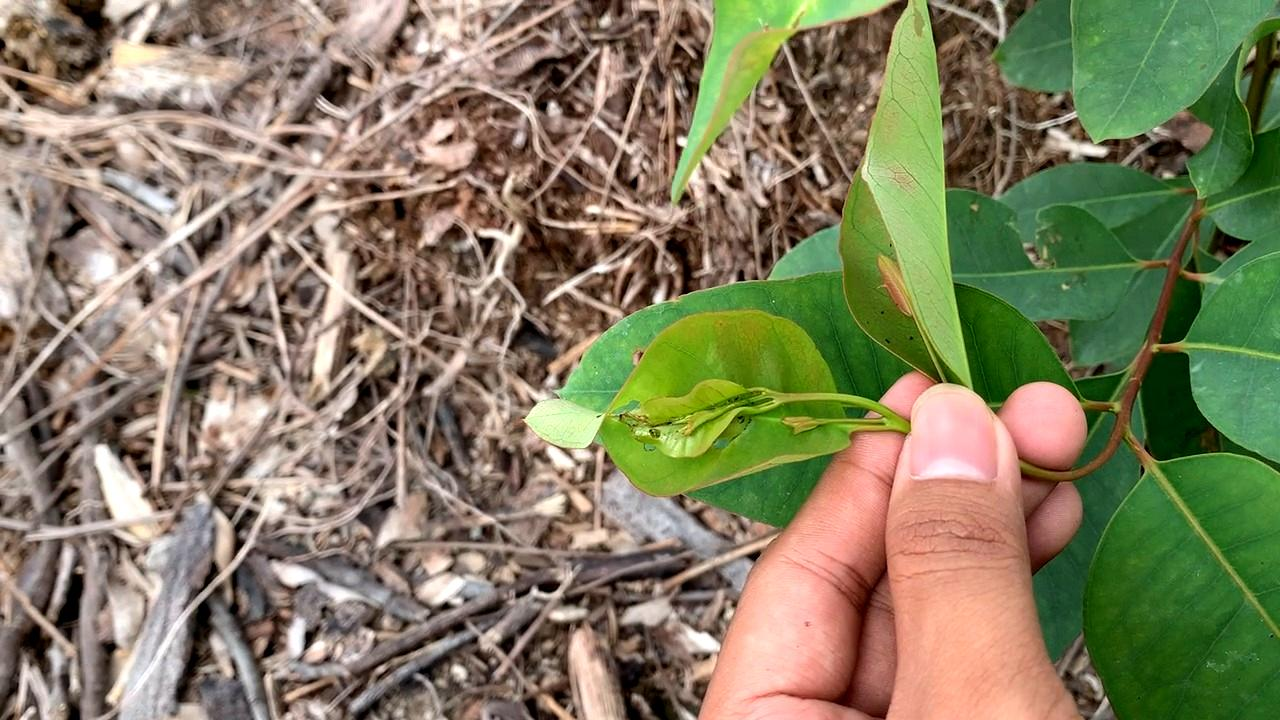Leaf Roller - Leaf: (529, 310, 859, 501)
